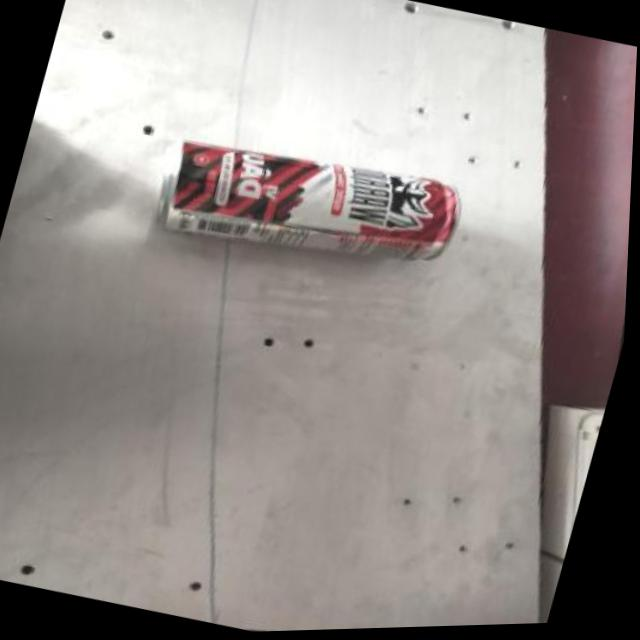metal: (160, 141, 459, 258)
